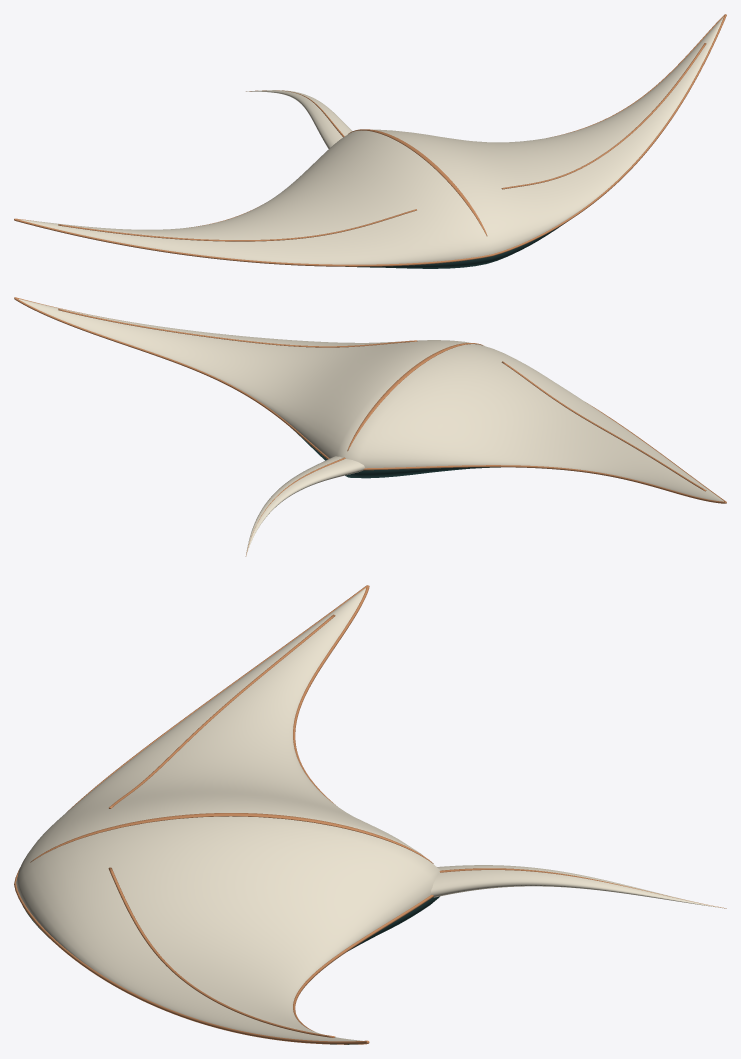
3 renders of one model, top to bottom at view 1: azimuth 30°, elevation 25°; view 2: azimuth 150°, elevation 25°; view 3: azimuth 270°, elevation 25°, orthographic. The views are drawn at different scales.
Parts seen in each view (by area): view 1: A | continuous porcelain wing, B | leading copper seam, E | tapered ceramic tail, C | swept copper inlay -1, G | copper dorsal midrib, C | swept copper inlay 1; view 2: A | continuous porcelain wing, B | trailing copper seam, E | tapered ceramic tail, C | swept copper inlay 1, G | copper dorsal midrib, C | swept copper inlay -1; view 3: A | continuous porcelain wing, E | tapered ceramic tail, B | leading copper seam, B | trailing copper seam, G | copper dorsal midrib, C | swept copper inlay 1, C | swept copper inlay -1.
Part boxes in pixels (box(x1,y1,x2,y2)): A | continuous porcelain wing: box(18, 17, 723, 268); B | leading copper seam: box(14, 14, 726, 266); E | tapered ceramic tail: box(247, 90, 352, 148); C | swept copper inlay -1: box(58, 209, 416, 241); G | copper dorsal midrib: box(348, 129, 487, 236); C | swept copper inlay 1: box(501, 43, 706, 189); A | continuous porcelain wing: box(18, 299, 723, 501); B | trailing copper seam: box(14, 297, 725, 503); E | tapered ceramic tail: box(245, 456, 364, 556); C | swept copper inlay 1: box(58, 308, 417, 347); G | copper dorsal midrib: box(347, 343, 483, 451); C | swept copper inlay -1: box(501, 361, 706, 491); A | continuous porcelain wing: box(16, 588, 440, 1044); E | tapered ceramic tail: box(430, 865, 725, 908); B | leading copper seam: box(14, 585, 367, 1044); B | trailing copper seam: box(293, 585, 433, 1044); G | copper dorsal midrib: box(30, 813, 433, 863); C | swept copper inlay 1: box(108, 867, 335, 1037); C | swept copper inlay -1: box(109, 614, 335, 808).
Bounding box in the file's own units: 10 × 1.24 × 6.01.
